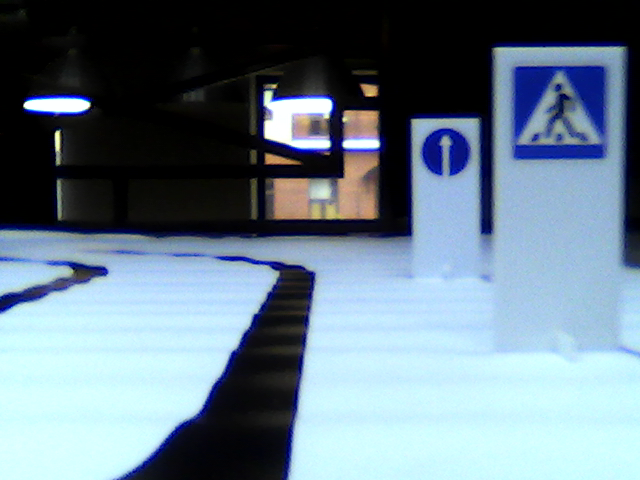forw: (419, 128, 472, 178)
pesh: (510, 62, 610, 163)
